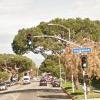Traffic light: (21, 27, 39, 50)
